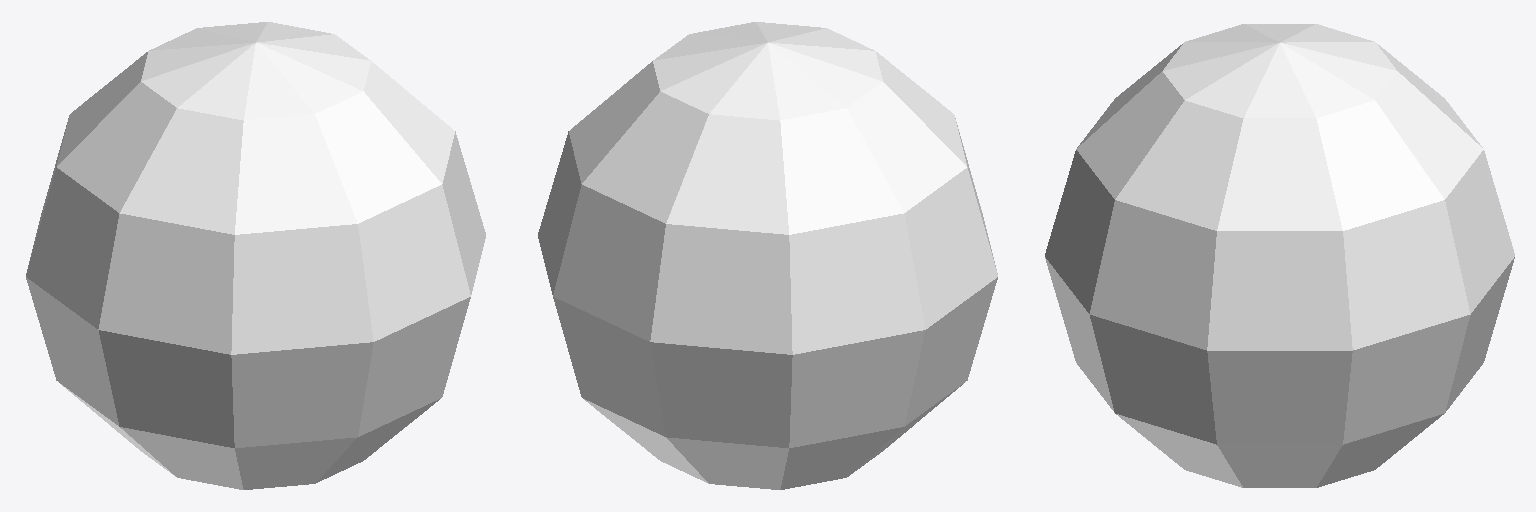
Rendered from cannonBall.obj.
3 renders of one model, left to right at view 1: azimuth 30°, elevation 25°; view 2: azimuth 150°, elevation 25°; view 3: azimuth 270°, elevation 25°, orthographic.
Parts seen in each view (by area): view 1: Sphere; view 2: Sphere; view 3: Sphere.
Boxes of the visible parts, x1=… form: Sphere: x1=26, y1=22, x2=485, y2=489; Sphere: x1=538, y1=22, x2=997, y2=489; Sphere: x1=1045, y1=24, x2=1514, y2=487.
Bounding box in the file's own units: 190 × 200 × 200.